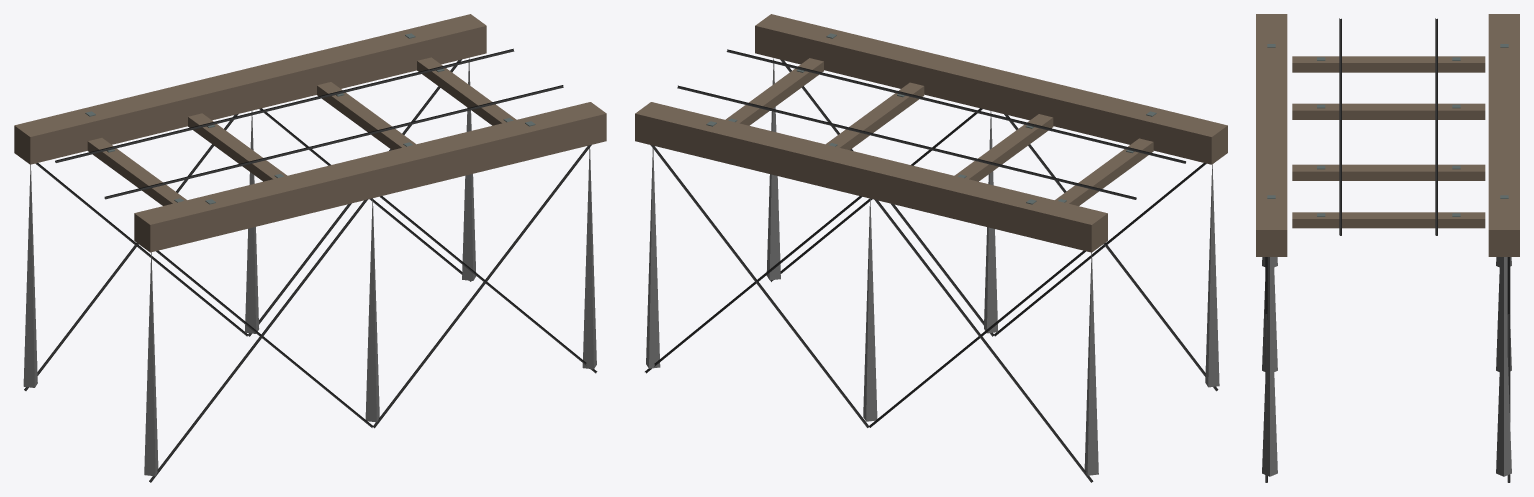
The picture shows the model from 3 angles, left to right: view 1: azimuth 30°, elevation 25°; view 2: azimuth 150°, elevation 25°; view 3: azimuth 270°, elevation 25°; orthographic projection. The views are drawn at different scales.
Visible parts, largest first — view 1: RL90F | archived geometry, RL90F | line, light and sprite surfaces; view 2: RL90F | archived geometry, RL90F | line, light and sprite surfaces; view 3: RL90F | archived geometry, RL90F | line, light and sprite surfaces, Fitted street and landscape details.
Boxes of the visible parts, x1,y1,x2,y2 form: RL90F | archived geometry: (14, 14, 606, 476); RL90F | line, light and sprite surfaces: (24, 48, 597, 482); RL90F | archived geometry: (635, 14, 1227, 475); RL90F | line, light and sprite surfaces: (645, 49, 1218, 482); RL90F | archived geometry: (1256, 14, 1519, 476); RL90F | line, light and sprite surfaces: (1265, 18, 1510, 482); Fitted street and landscape details: (1267, 44, 1508, 216).
Bounding box in the file's own units: 16.06 × 8.84 × 8.25.
